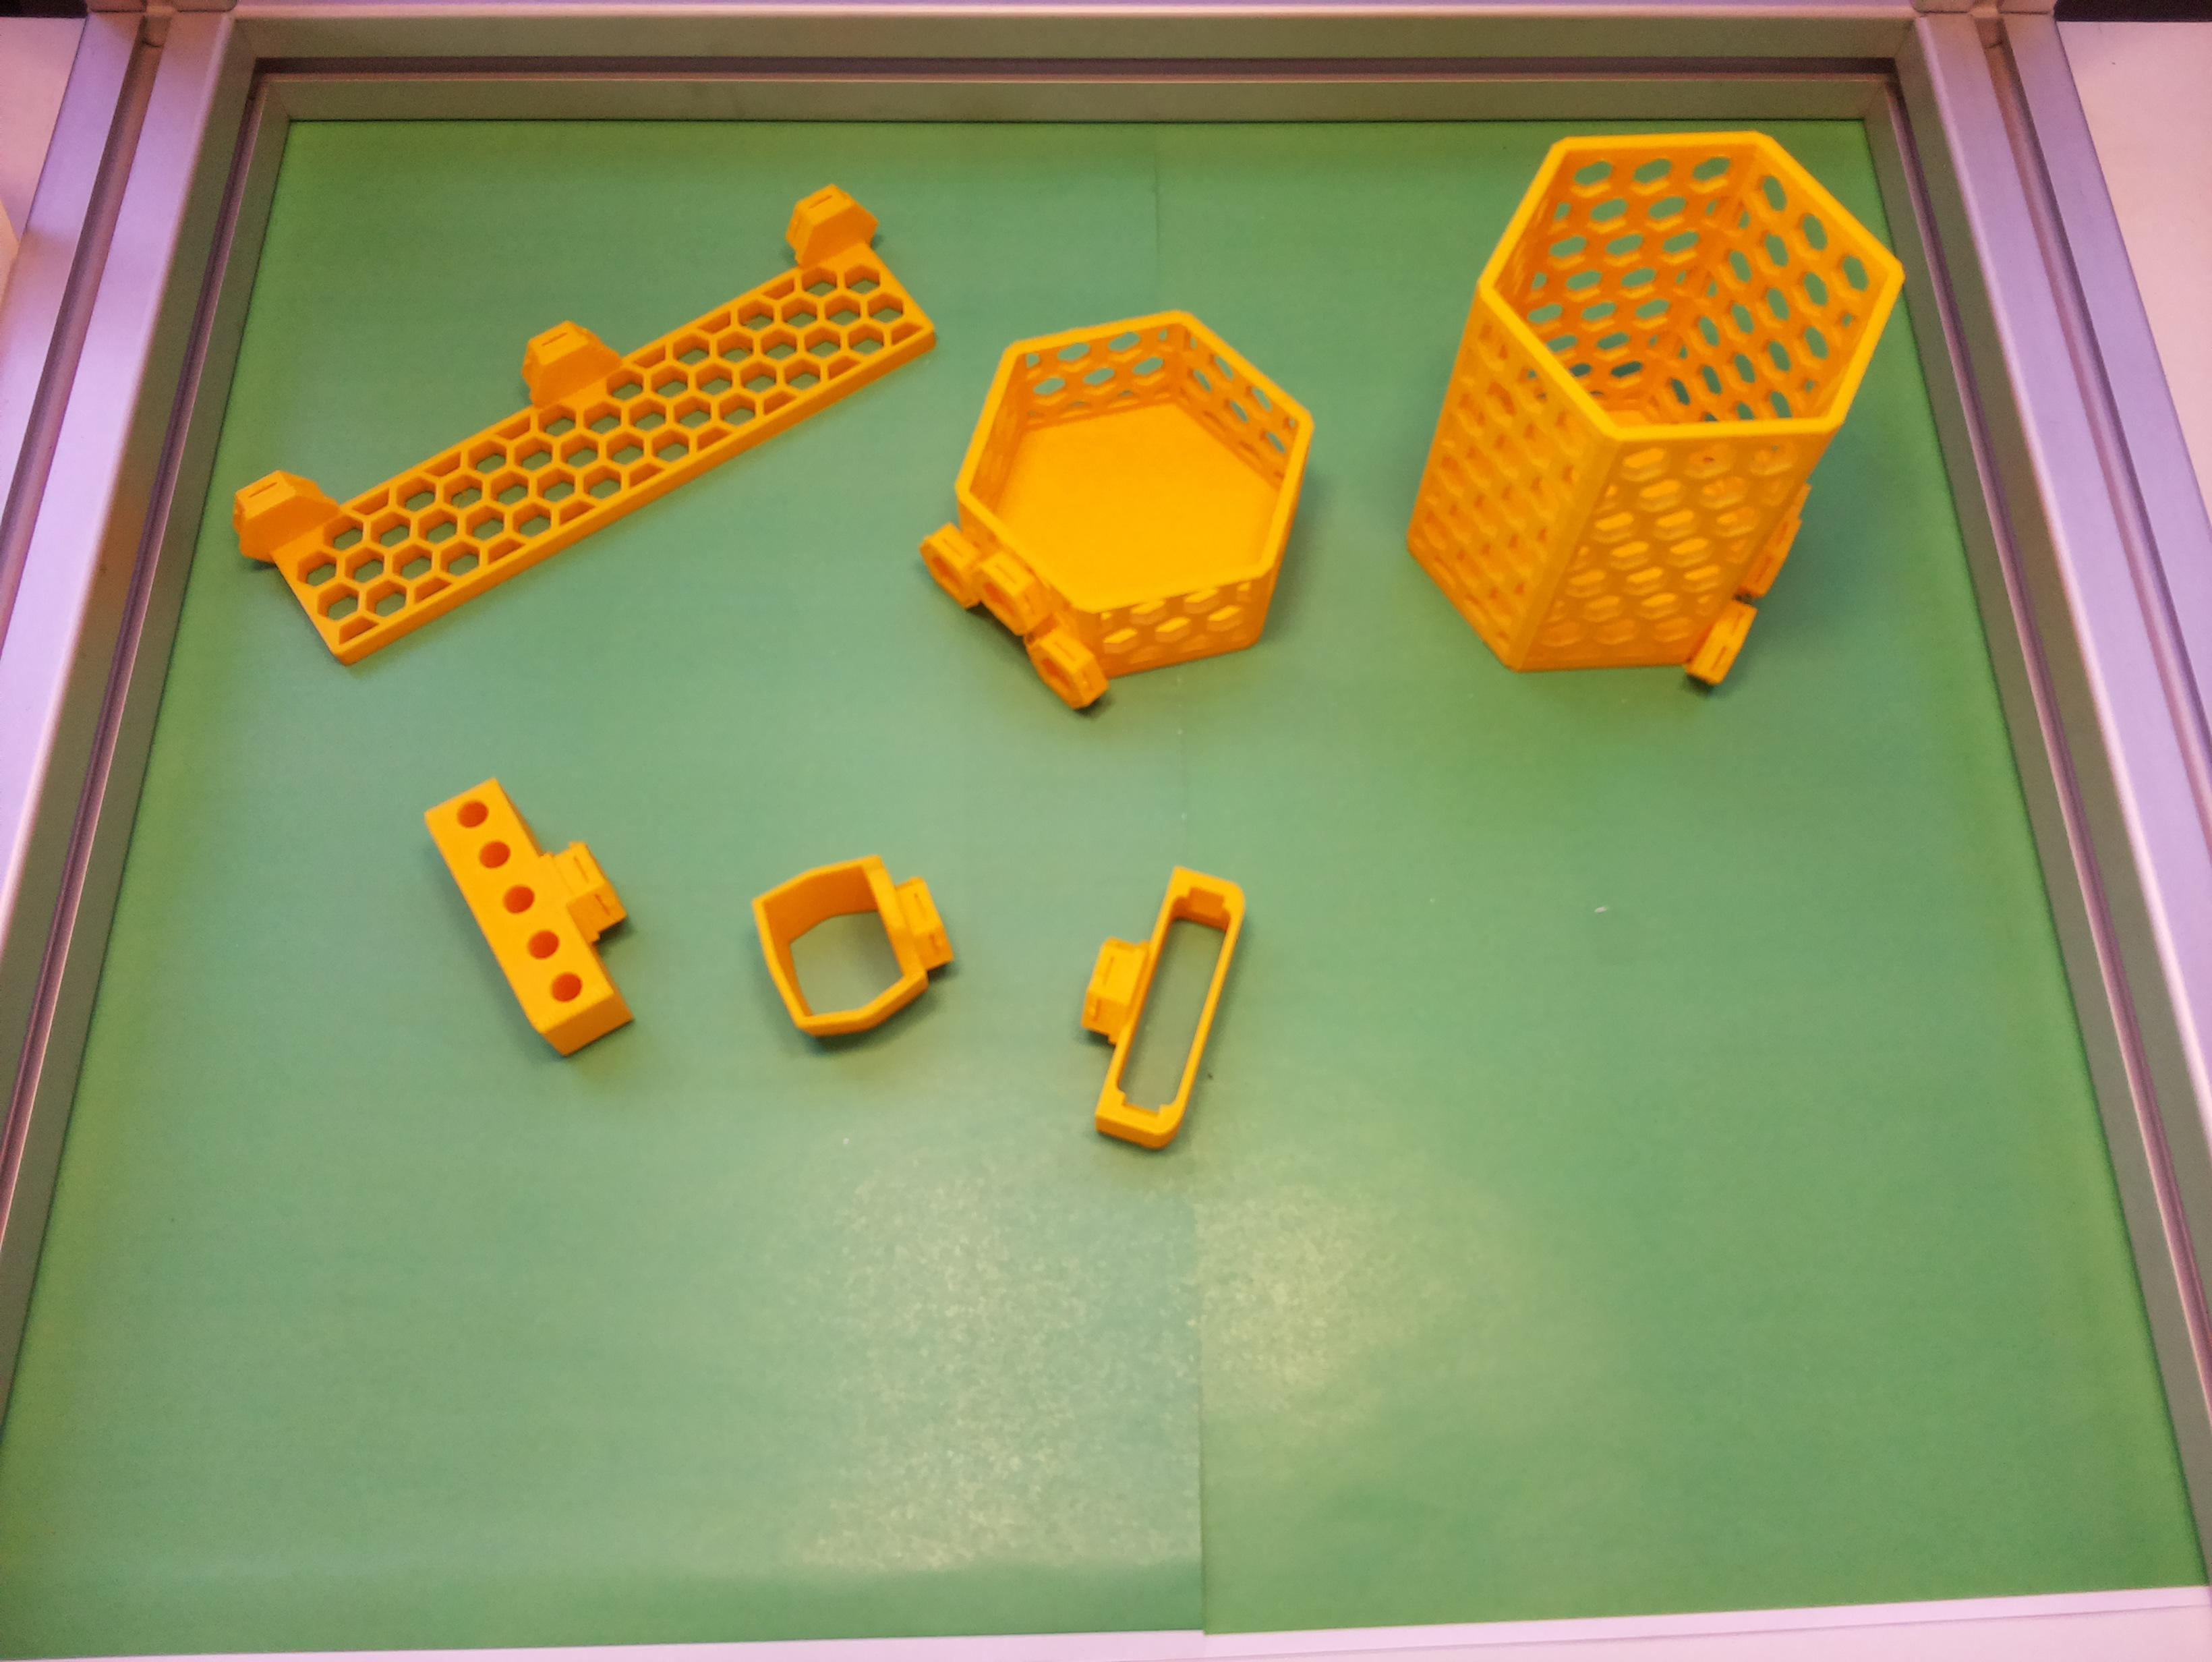bit_holder: (419, 751, 672, 1063)
bottle_holder: (859, 237, 1390, 770)
cup_holder: (1343, 54, 1936, 751)
cutter_holder: (1049, 852, 1255, 1156)
scissor_holder: (737, 828, 971, 1058)
tool_holder: (215, 166, 945, 684)
